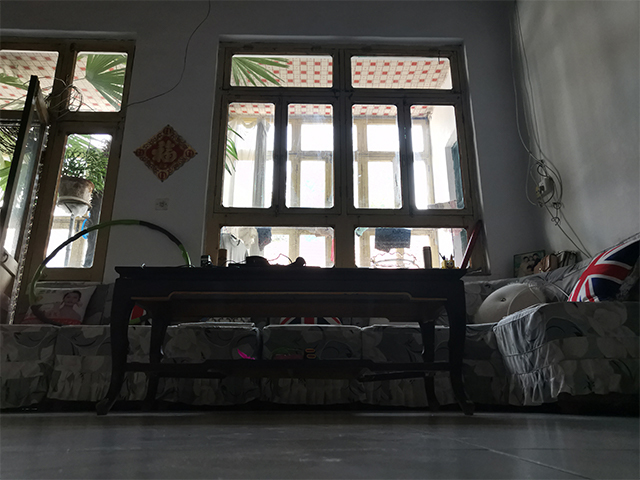sofa: (495, 237, 640, 415), (1, 235, 144, 413)
table: (92, 265, 477, 417)
